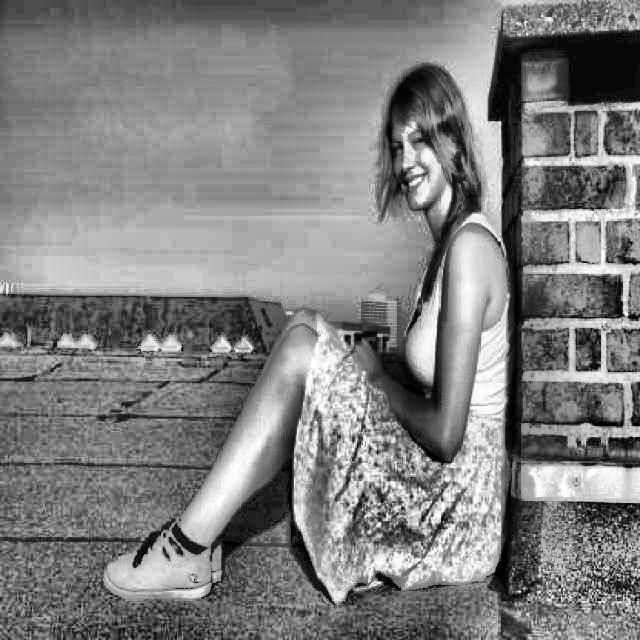happy: (342, 46, 496, 229)
